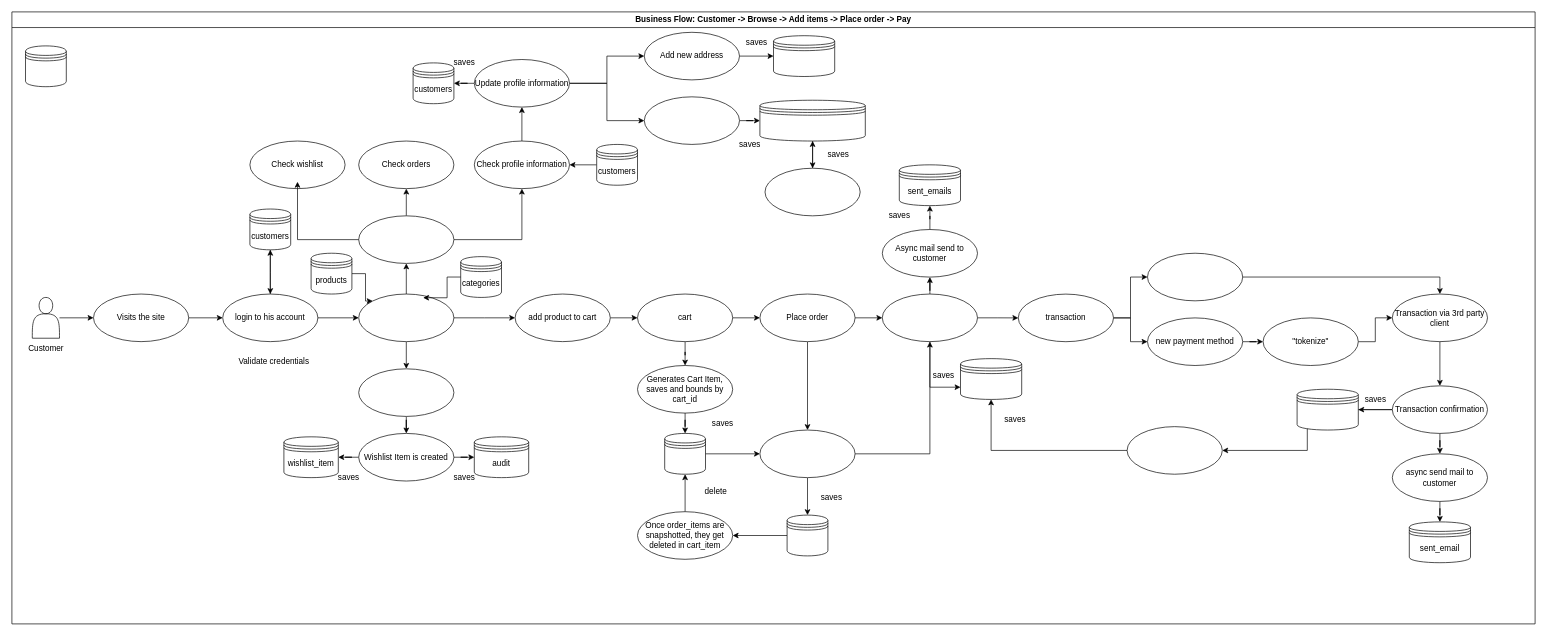
Some shapes in this 1547 by 636 pixel diagram are drawn without their labels. Here are the shapes that lost their labels. From the top down, the centre of each, then its label:
At (804,55): "customer_addr".
At (692,120): "Add new payment method".
At (812,120): "customer_payment_method".
At (812,192): "Async tokenize the payment method".
At (406,239): "Check profile".
At (1195,277): "Saved payment method".
At (406,317): "Browse the site".
At (930,317): "Order confirmed".
At (406,392): "Add product to wishlist".
At (991,378): "order".
At (1327,409): "transactions".
At (685,453): "cart_item".
At (807,453): "Snapshot cart_items to Order_items".
At (1174,450): "Async update order to paid".
At (807,535): "order_item".
